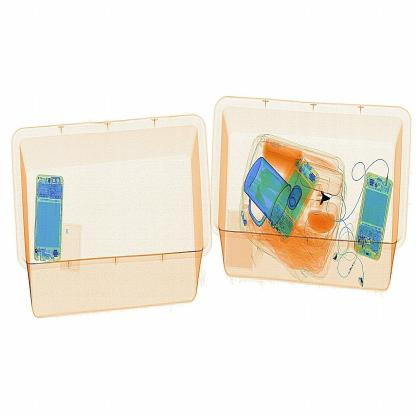gun: (316, 180, 337, 219)
